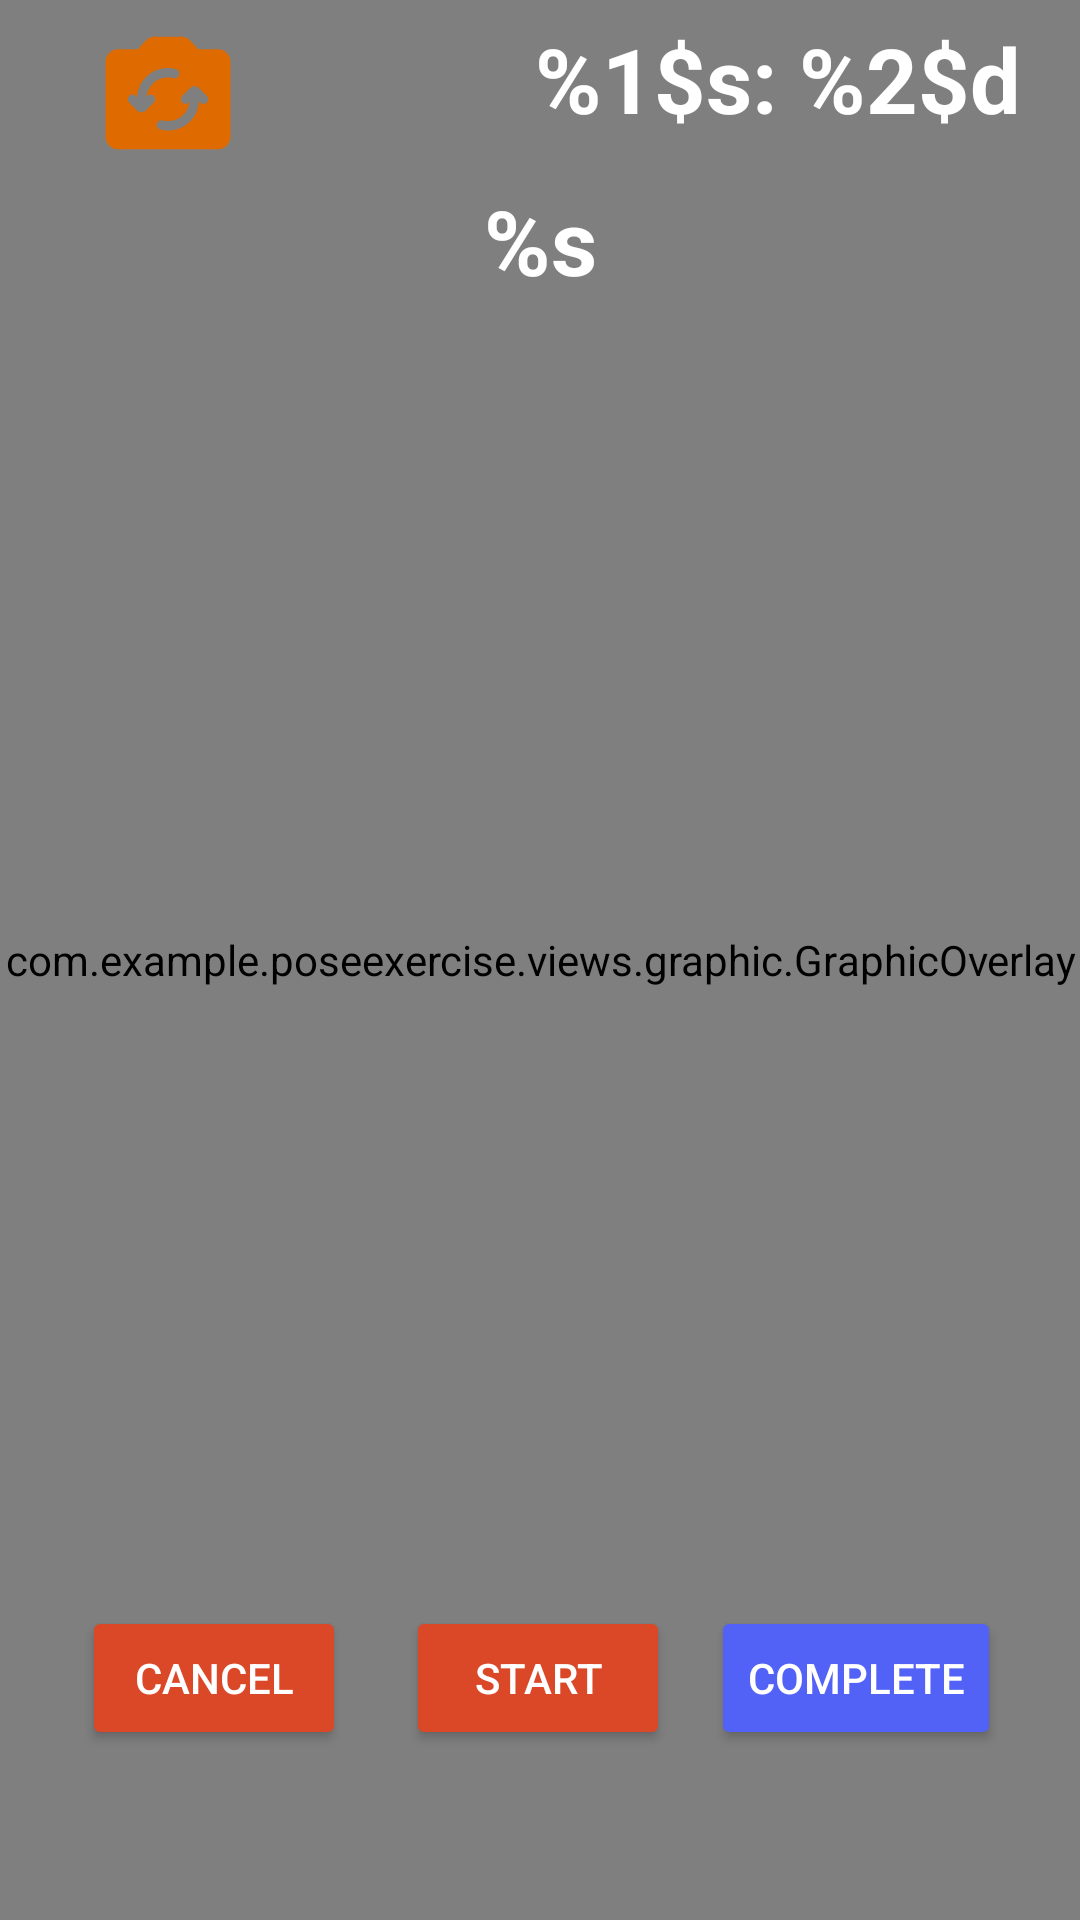

Where icons sit on this 1080w x 1920h app screen, as (x1, y1, x2, y2):
camera flip: (105, 36, 231, 150)
